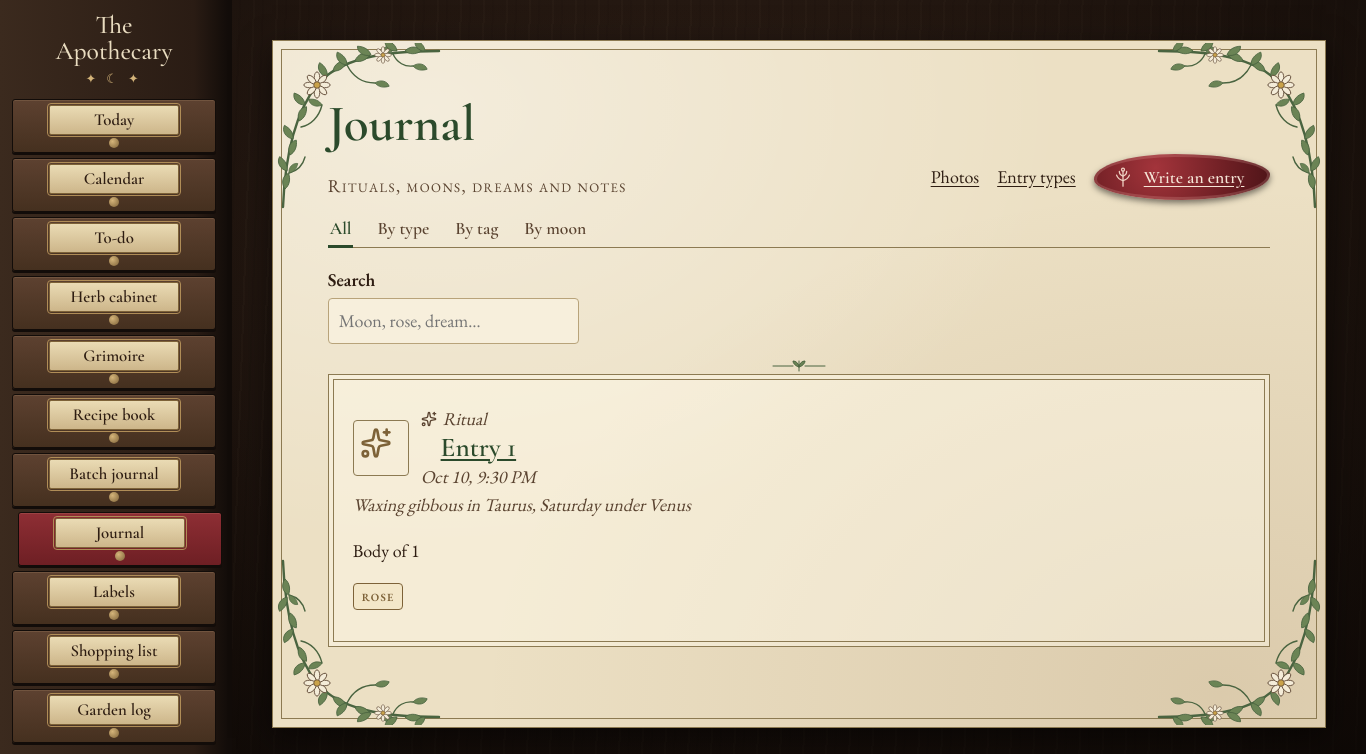
Test: switches from All to By type and By tag without breaking
Expected: the link "Entry 1" is shown, [441,431,516,464]
What coordinates should you click on to do the following:
click the link "By type"
I would click on:
 (403, 229)
Its box is [378,218,429,239].
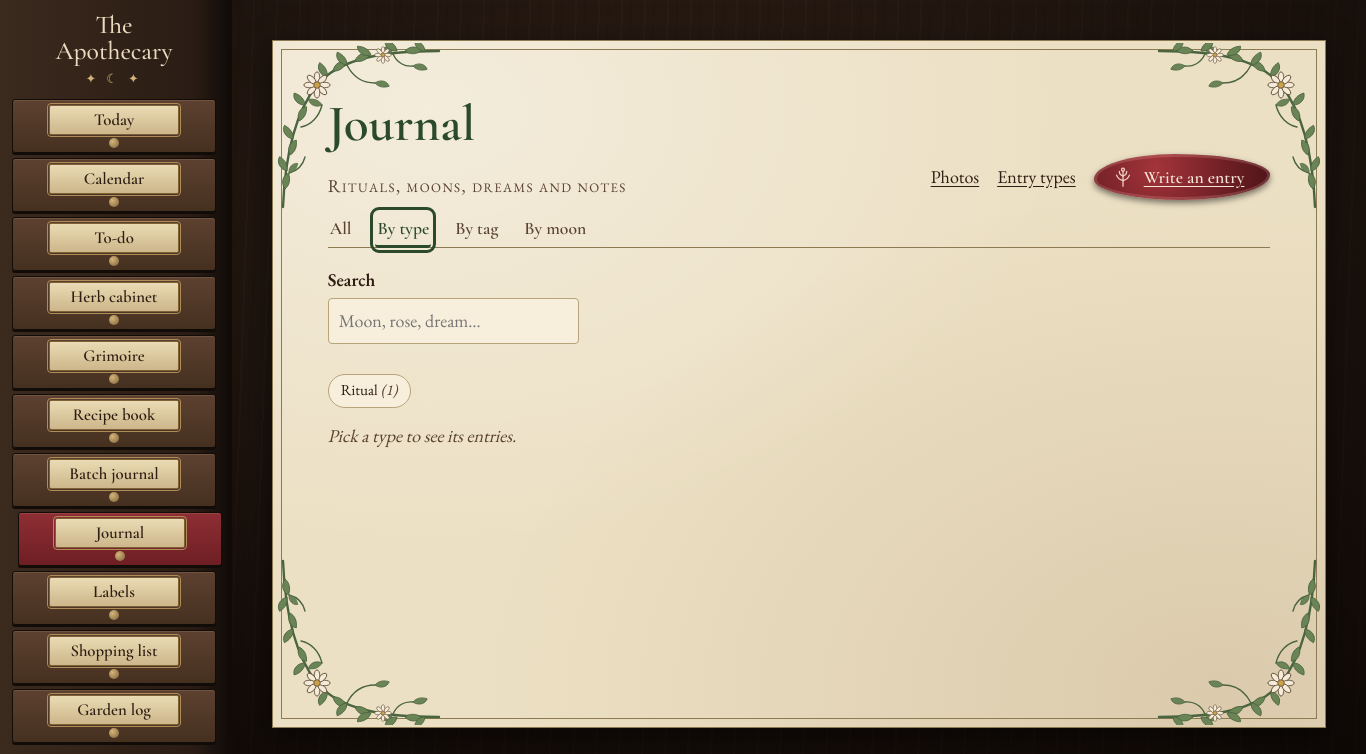
Now the button "Ritual (1)" is shown, box [328,374,411,408]
What coordinates should you click on to do the following:
click the link "By tag"
I would click on:
 (477, 229)
Its box is [455,218,498,239].
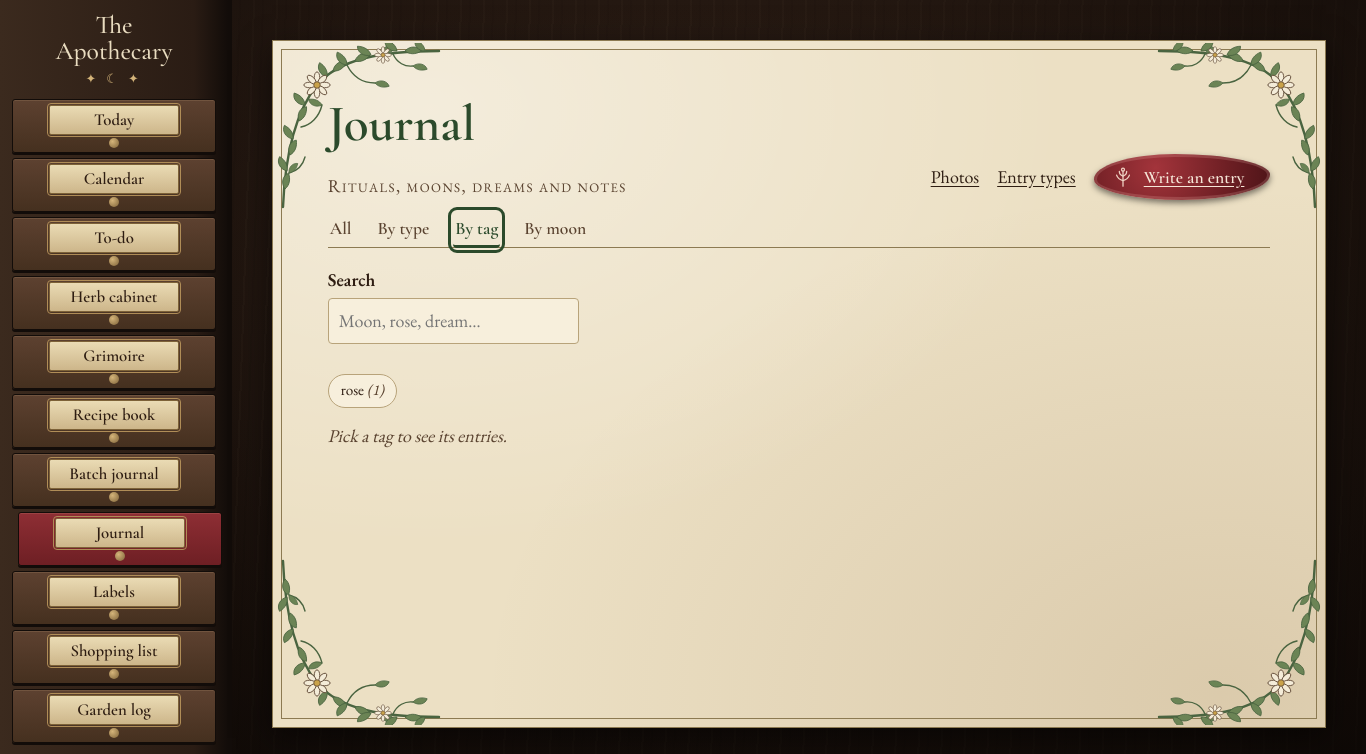
Now the button "rose (1)" is shown, box [328,374,397,408]
What coordinates should you click on to do the following:
click the link "All"
I would click on:
 (340, 229)
Its box is [330,218,351,239].
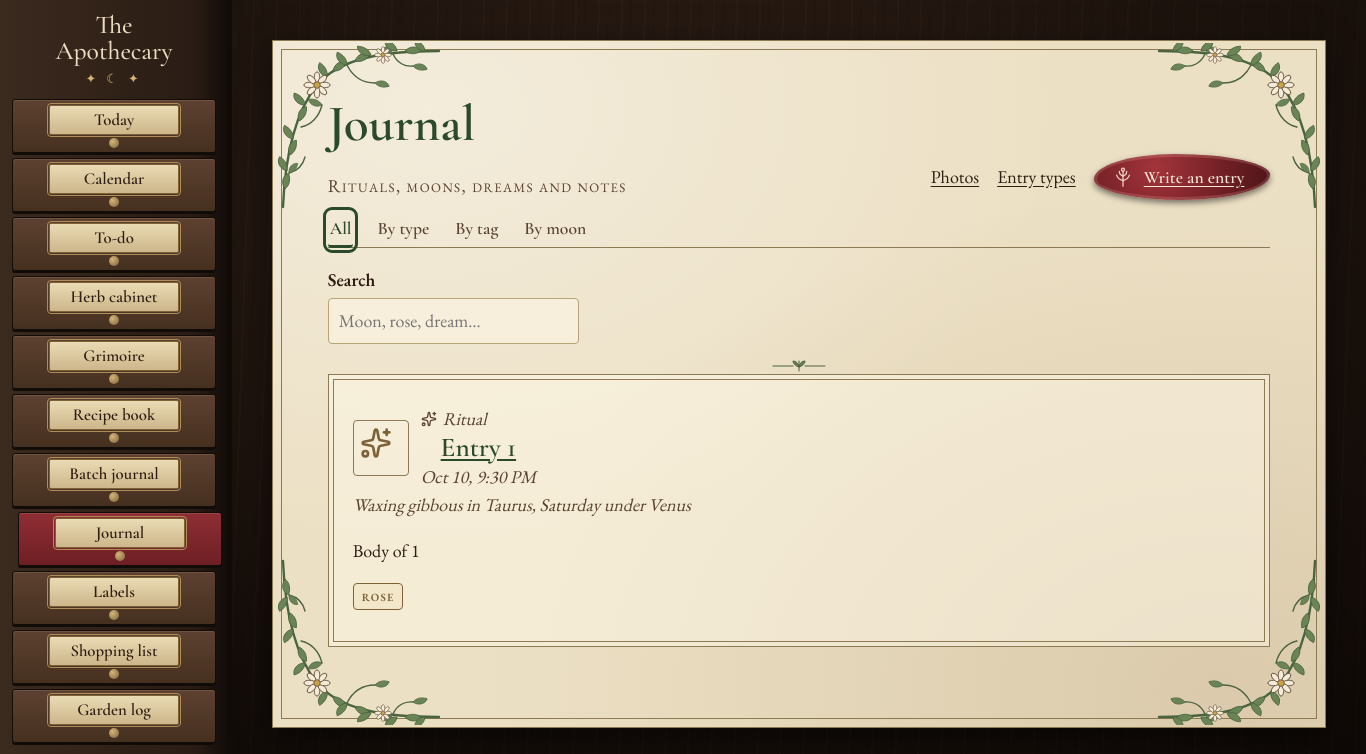
Now the link "Entry 1" is shown, box [441,431,516,464]
